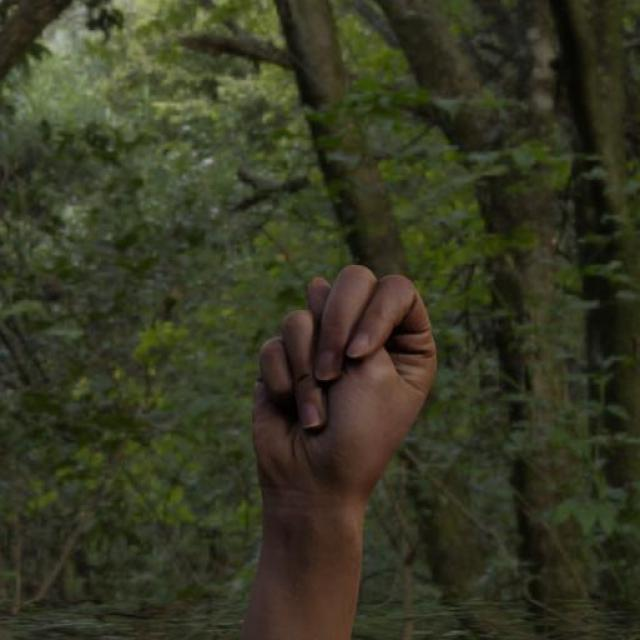N: (243, 253, 452, 507)
